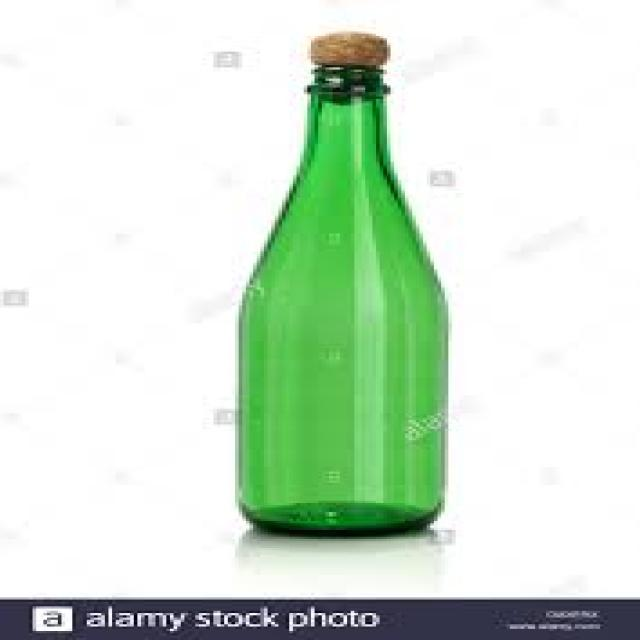glass: (232, 63, 441, 537)
